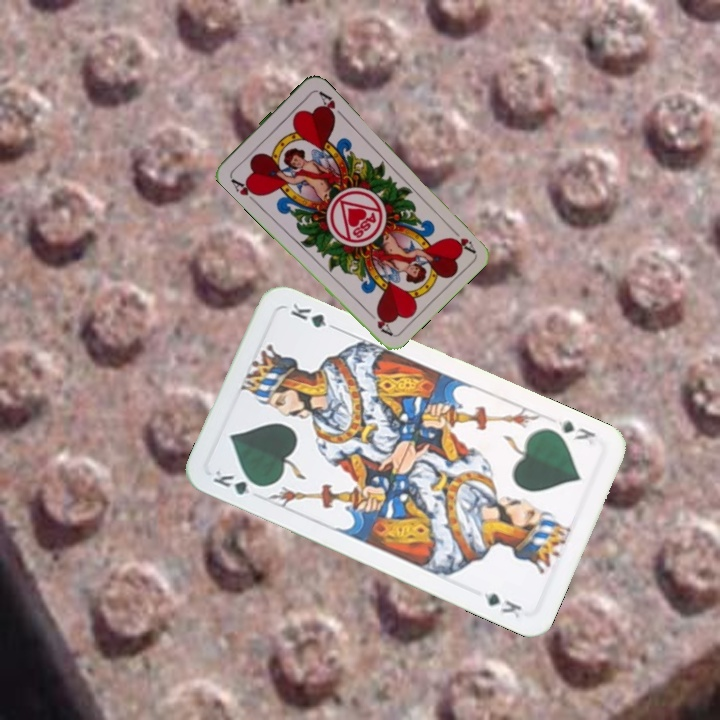GK: (209, 466, 266, 498), (554, 416, 598, 443)
HA: (226, 172, 263, 205), (445, 222, 477, 255)
